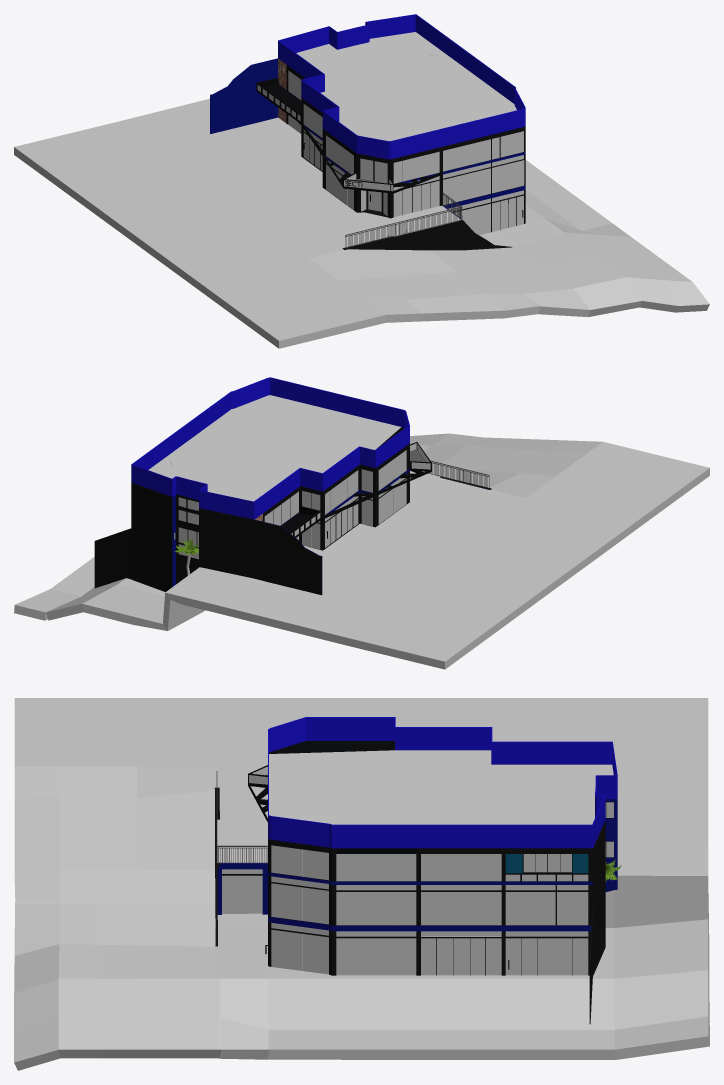
Rendered from modelo_3d_secretaria.obj.
3 views of the same model, one above another, from view 1: azimuth 30°, elevation 25°; view 2: azimuth 150°, elevation 25°; view 3: azimuth 270°, elevation 25° (orthographic). The views are drawn at different scales.
Parts seen in each view (by area): view 1: Plano.001, Contorno_Preto.013, Grade_2; view 2: Plano.001, Contorno_Preto.013, Grade_2; view 3: Plano.001, Contorno_Preto.013, Grade_1.
Boxes of the visible parts, x1,y1,x2,y2 form: Plano.001: (14, 98, 709, 348); Contorno_Preto.013: (210, 14, 525, 250); Grade_2: (345, 206, 462, 248); Plano.001: (14, 433, 709, 669); Contorno_Preto.013: (94, 377, 491, 595); Grade_2: (421, 461, 489, 488); Plano.001: (14, 698, 709, 1070); Contorno_Preto.013: (214, 717, 617, 1024); Grade_1: (216, 845, 267, 863).
Size of the model in its own units: 66.03 by 22.45 by 70.61.
